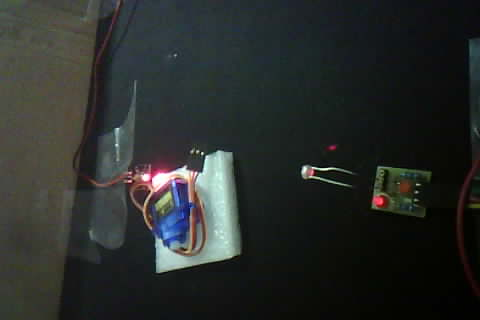motor: (128, 155, 223, 266)
